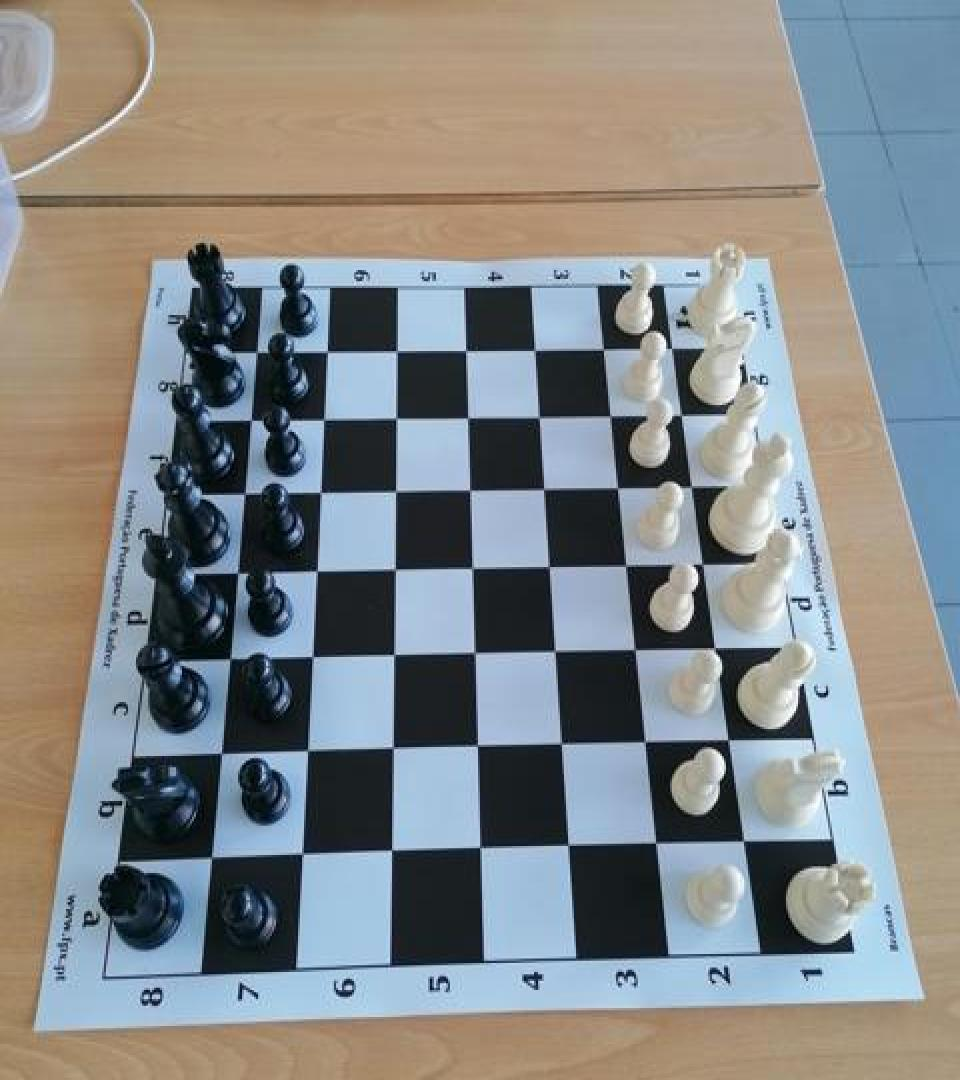xcorner: (284, 841, 316, 878), (202, 741, 234, 778), (461, 734, 493, 771), (547, 733, 579, 770), (293, 644, 325, 681), (612, 552, 644, 589), (193, 845, 225, 881), (375, 839, 407, 875), (464, 837, 496, 873), (553, 835, 585, 871), (642, 832, 674, 868), (730, 830, 762, 866), (289, 739, 321, 775), (375, 737, 407, 773), (631, 731, 663, 767), (715, 729, 747, 765), (210, 646, 242, 682), (376, 644, 408, 680), (458, 641, 490, 677), (540, 640, 572, 676), (621, 638, 653, 674), (702, 637, 734, 673), (217, 559, 249, 595), (297, 558, 329, 594), (377, 557, 409, 593), (456, 556, 488, 592), (534, 554, 566, 590), (690, 551, 722, 587), (224, 478, 256, 514), (301, 478, 333, 514), (377, 477, 409, 513), (453, 476, 485, 512), (529, 475, 561, 511), (604, 474, 636, 510), (679, 472, 711, 508), (230, 404, 262, 440), (304, 404, 336, 440), (378, 403, 410, 439), (451, 402, 483, 438), (524, 402, 556, 438), (596, 400, 628, 436), (668, 400, 700, 436), (236, 335, 268, 371), (307, 334, 339, 370), (378, 334, 410, 370), (449, 333, 481, 369), (519, 333, 551, 369), (589, 333, 621, 369), (658, 332, 690, 368)
